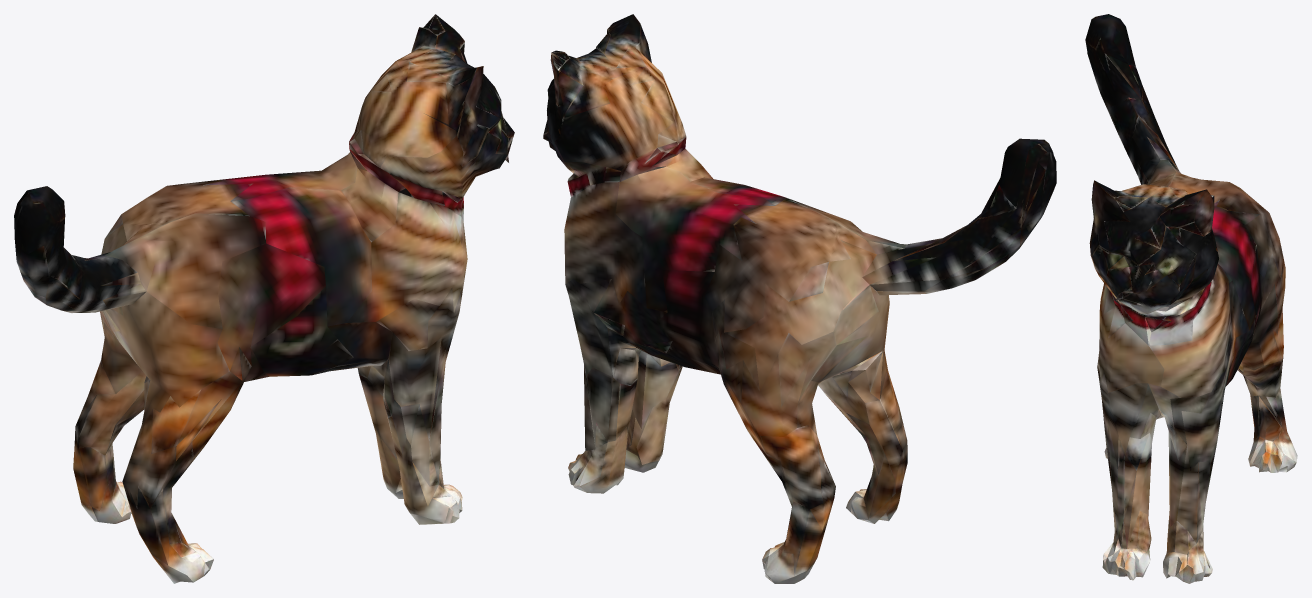
File: VENUS2F-lo.glb
The picture shows the model from 3 angles, left to right: view 1: azimuth 30°, elevation 25°; view 2: azimuth 150°, elevation 25°; view 3: azimuth 270°, elevation 25°; orthographic projection. The views are drawn at different scales.
Parts seen in each view (by area): view 1: output_unwrapped; view 2: output_unwrapped; view 3: output_unwrapped.
Boxes of the visible parts, x1,y1,x2,y2 form: output_unwrapped: (14, 14, 514, 583); output_unwrapped: (543, 14, 1056, 583); output_unwrapped: (1085, 14, 1297, 583).
Size of the model in its own units: 1.17 by 1 by 0.4778.
Materials: 1 (1 with a texture image).
